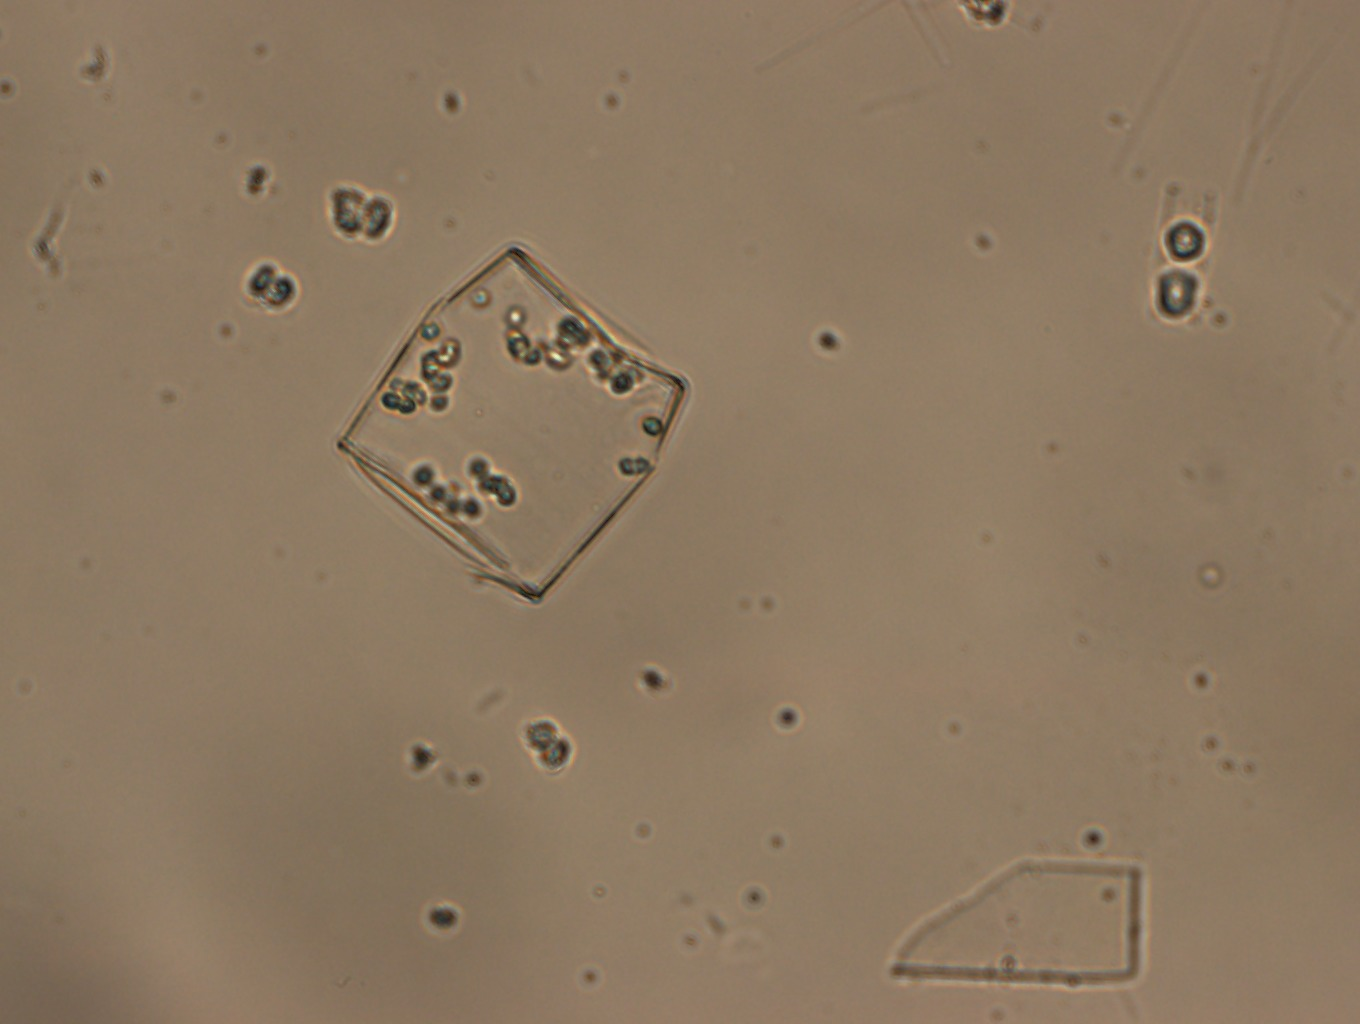guinardia flaccida: (323, 234, 692, 608)
